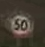limite 50: (5, 10, 34, 38)
